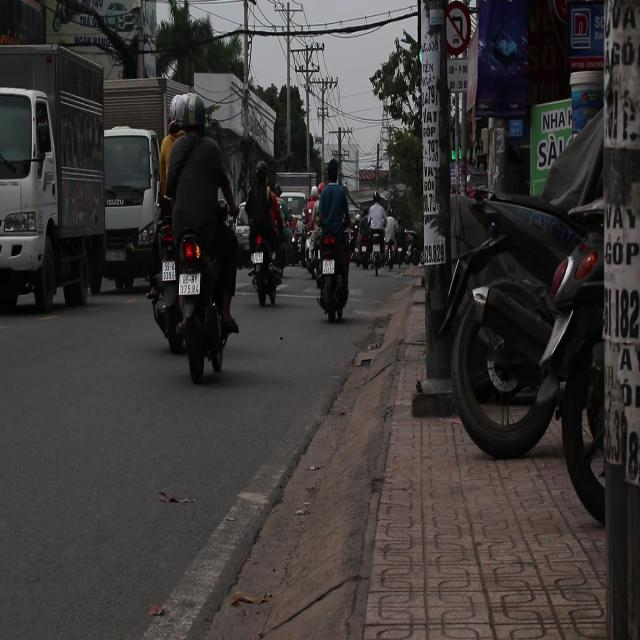motorbike: (165, 201, 245, 391), (308, 218, 359, 333), (151, 203, 184, 355), (251, 227, 290, 315)
truck: (1, 45, 107, 314), (103, 130, 162, 290), (268, 158, 322, 282)
